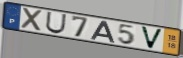5: (116, 23, 137, 45)
7: (71, 15, 91, 39)
A: (89, 20, 116, 44)
U: (44, 11, 68, 35)
V: (140, 25, 165, 51)
X: (21, 7, 45, 33)
